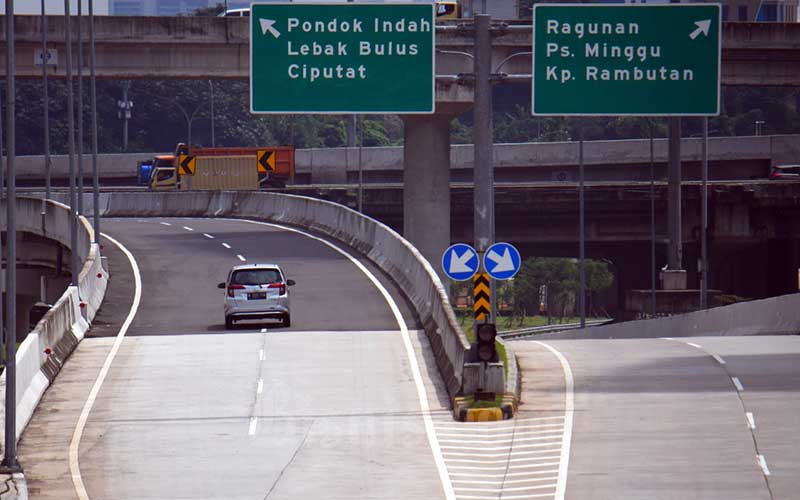car: (153, 148, 299, 200), (151, 156, 260, 198), (223, 264, 291, 327)
